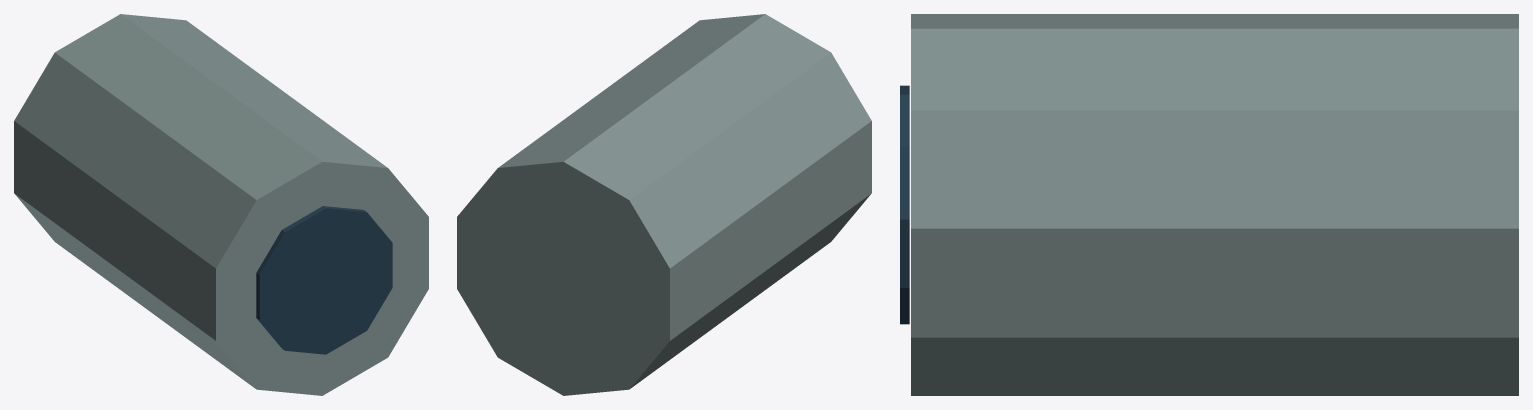
File: stone_pipe.glb
3 renders of one model, left to right at view 1: azimuth 30°, elevation 25°; view 2: azimuth 150°, elevation 25°; view 3: azimuth 270°, elevation 25°, orthographic. The views are drawn at different scales.
Visible parts, largest first — view 1: pipe; view 2: pipe; view 3: pipe.
Boxes of the visible parts, x1,y1,x2,y2 form: pipe: (14,14,428,395); pipe: (457,14,871,395); pipe: (900,14,1518,395).
Size of the model in its own units: 0.3043 by 0.32 by 0.509.
